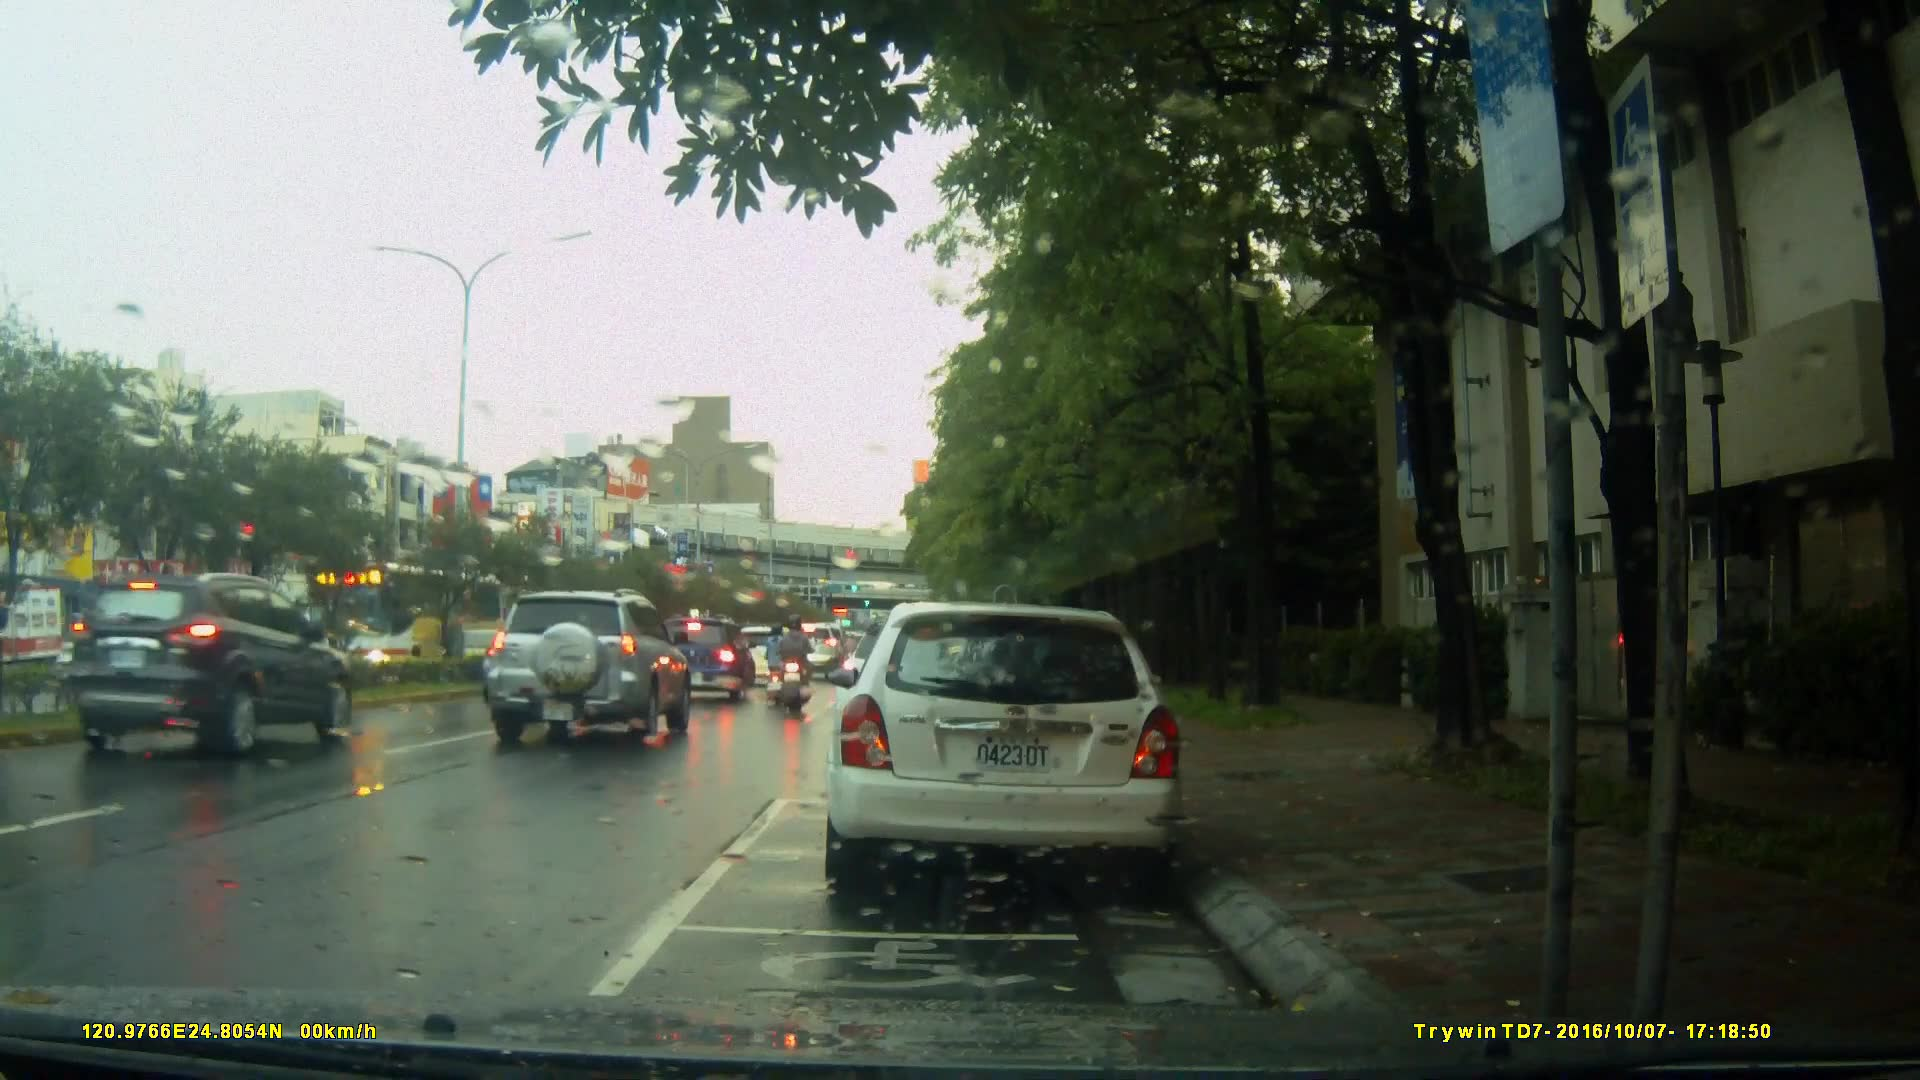rider: (776, 610, 817, 719), (757, 622, 793, 698)
vehicle: (820, 602, 1188, 898), (57, 571, 354, 763), (487, 588, 696, 743), (649, 613, 759, 704)
